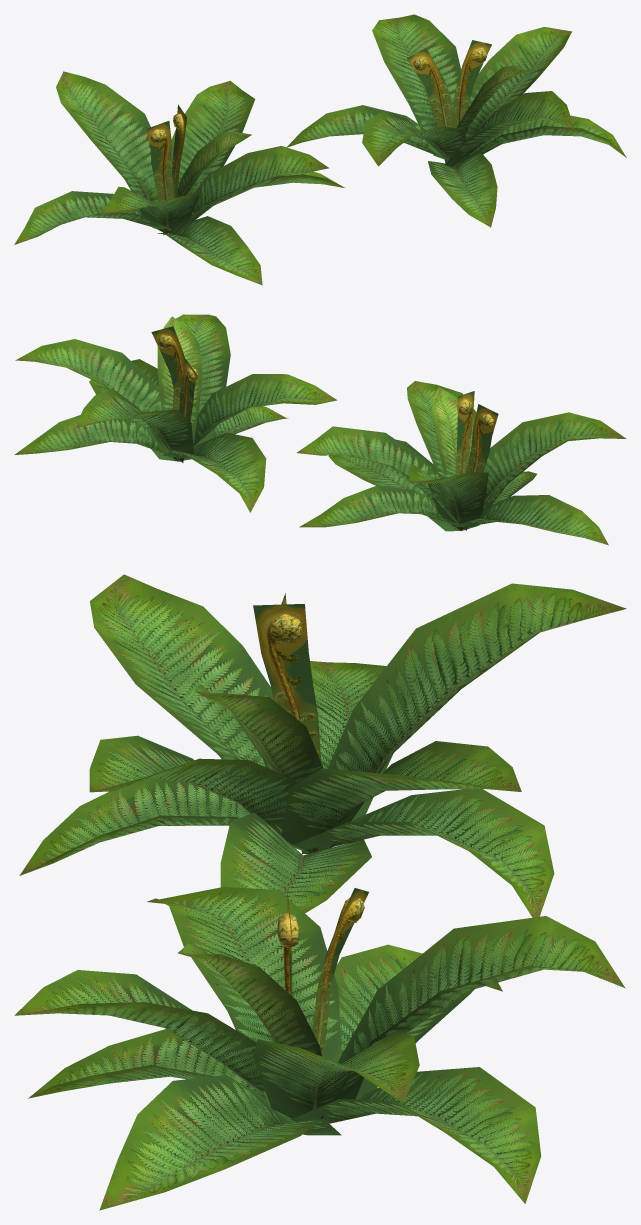
Rendered from male fern.FBX.
The picture shows the model from 3 angles, top to bottom: view 1: azimuth 30°, elevation 25°; view 2: azimuth 150°, elevation 25°; view 3: azimuth 270°, elevation 25°; orthographic projection. The views are drawn at different scales.
Visible parts, largest first — view 1: male fern, male fern001; view 2: male fern001, male fern; view 3: male fern, male fern001.
Boxes of the visible parts, <box> form: male fern: <box>14,71,344,285</box>; male fern001: <box>287,14,626,227</box>; male fern001: <box>14,314,337,512</box>; male fern: <box>296,381,626,545</box>; male fern: <box>19,574,626,917</box>; male fern001: <box>14,887,625,1210</box>.
Size of the model in its own units: 144 by 31.73 by 66.9.
